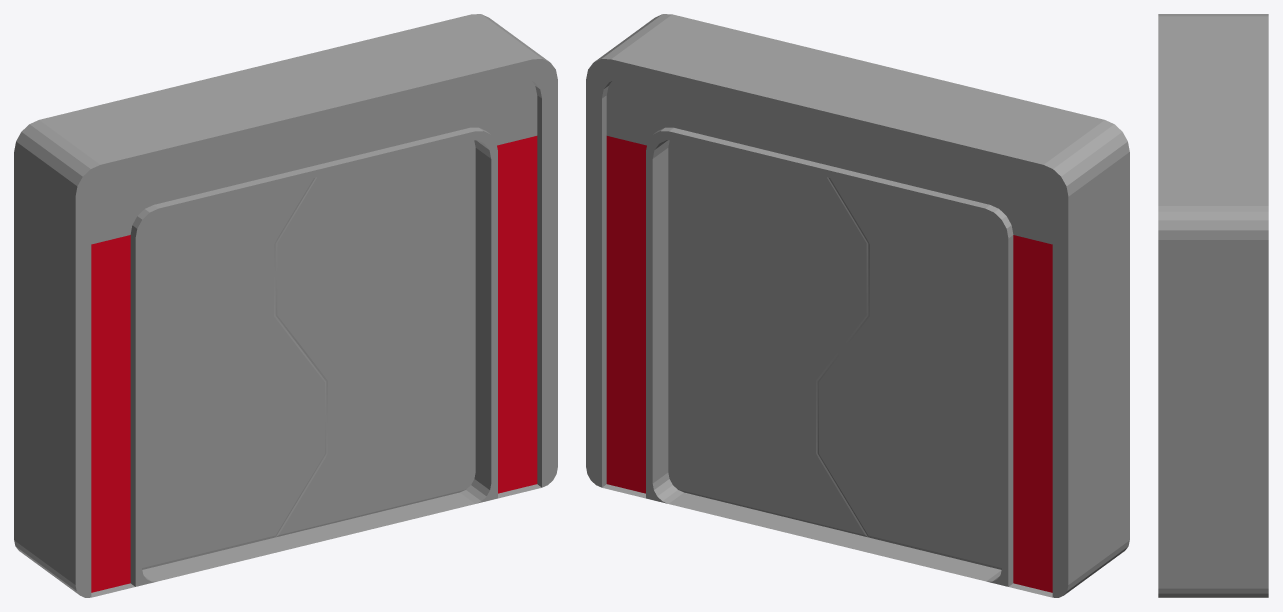
The model's file is Metal Door New.fbx.
3 views of the same model, side by side, from view 1: azimuth 30°, elevation 25°; view 2: azimuth 150°, elevation 25°; view 3: azimuth 270°, elevation 25° (orthographic). The views are drawn at different scales.
Parts seen in each view (by area): view 1: Cube, R.Door.001, L.Door.001; view 2: Cube, R.Door.001, L.Door.001; view 3: Cube.
Part boxes in pixels (x1=…): Cube: x1=14, y1=14, x2=557, y2=597; R.Door.001: x1=275, y1=140, x2=475, y2=537; L.Door.001: x1=142, y1=178, x2=326, y2=569; Cube: x1=586, y1=14, x2=1129, y2=597; R.Door.001: x1=668, y1=140, x2=868, y2=537; L.Door.001: x1=817, y1=178, x2=1001, y2=569; Cube: x1=1158, y1=14, x2=1268, y2=597.
Size of the model in its own units: 276 by 236 by 60.95.
